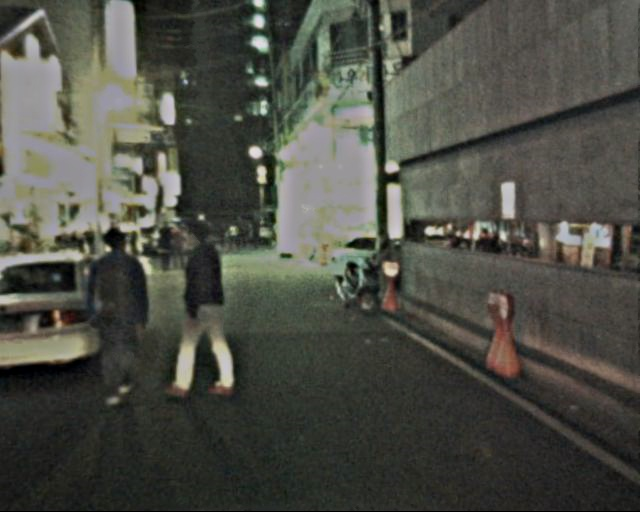person: (78, 224, 158, 402), (168, 215, 243, 398), (214, 221, 262, 253), (168, 219, 190, 270), (156, 222, 178, 269)
